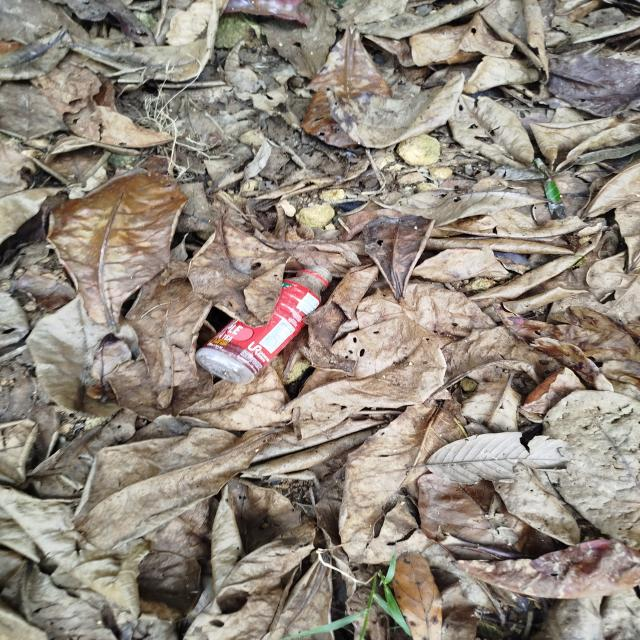plastic: (200, 255, 352, 389)
